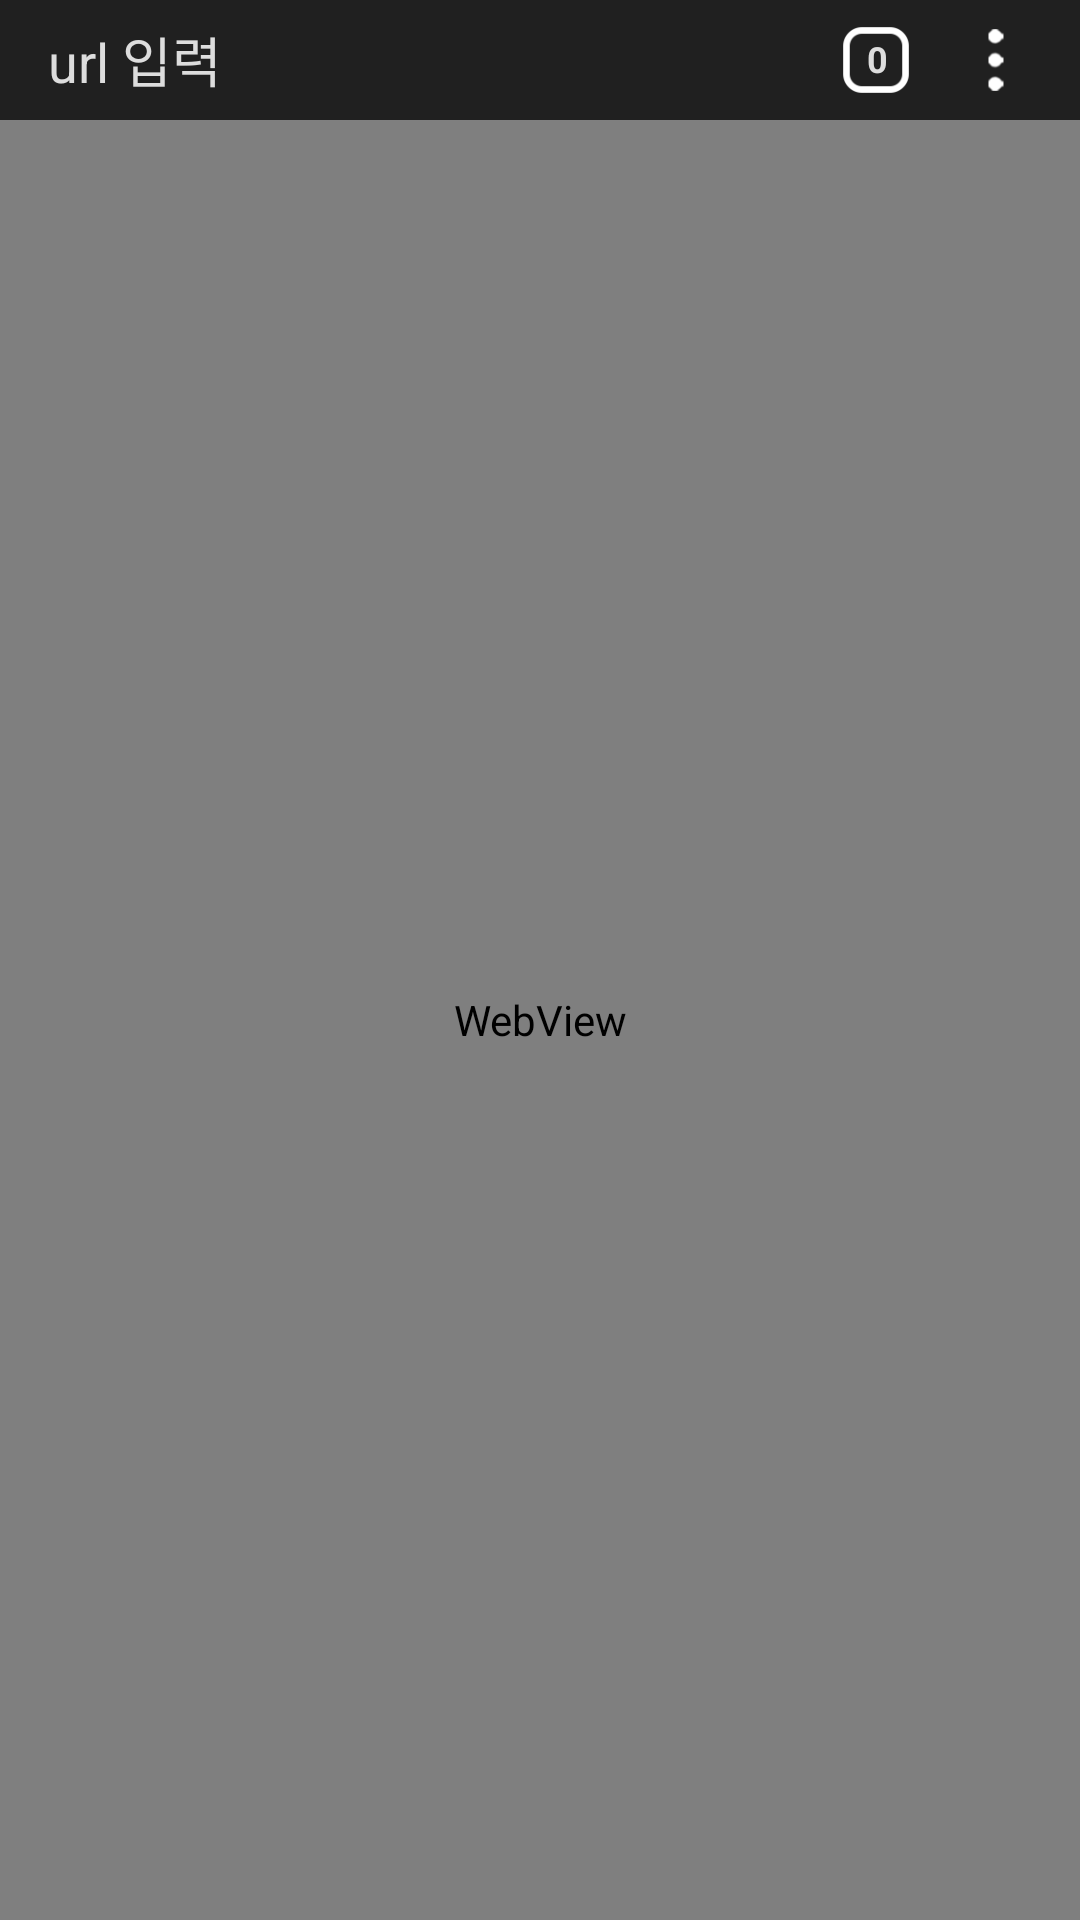

Icons on this 1080×1920 Android screen, each with the point to tap as (x=x, y=y):
menu: (x=996, y=60)
tab: (x=876, y=60)
